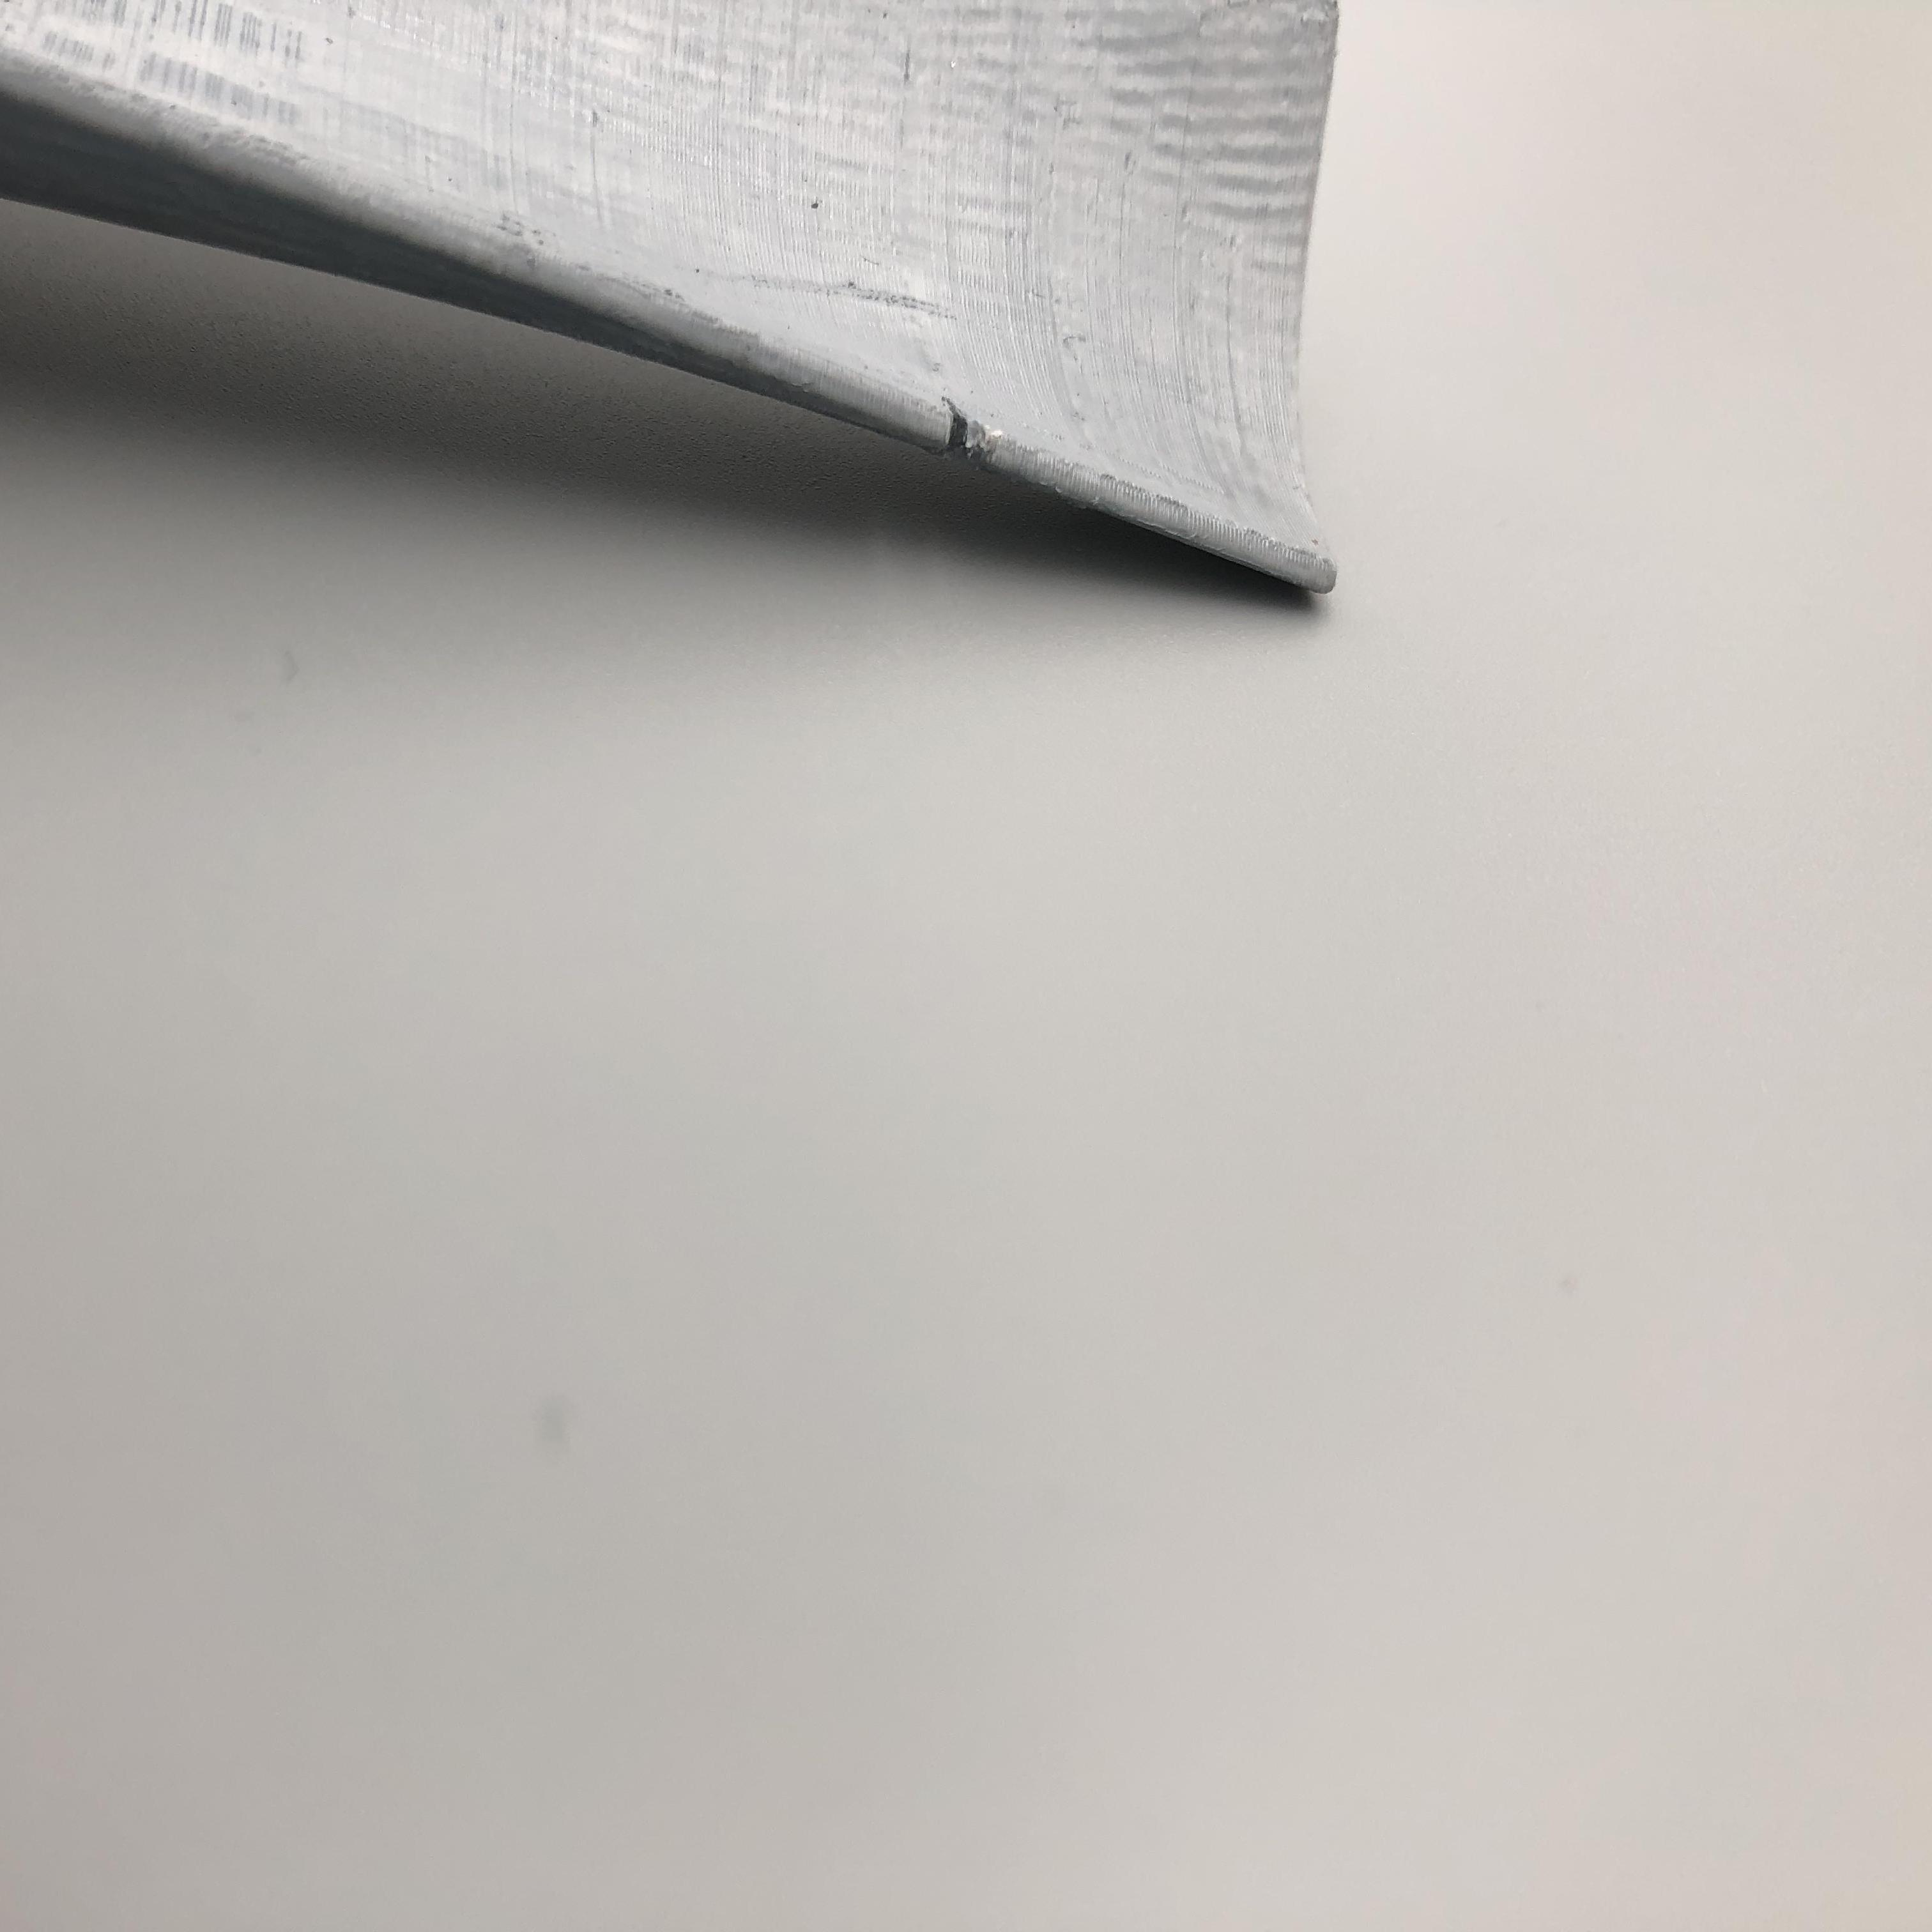groove: (925, 398, 1005, 462)
